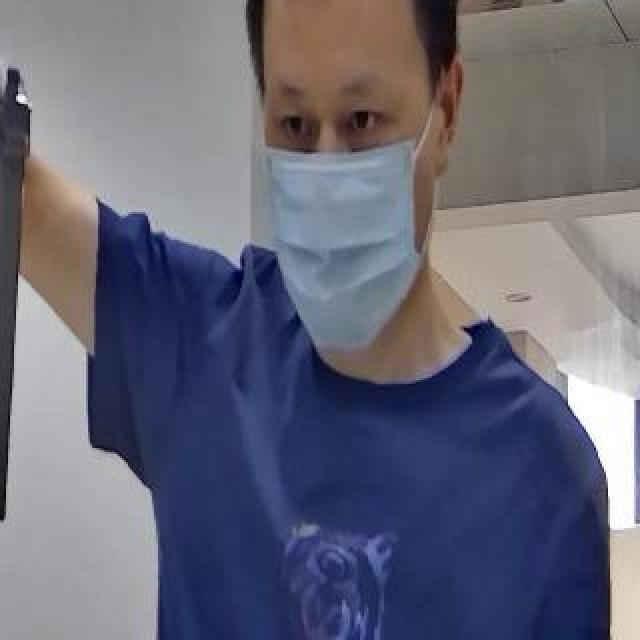Guns: (0, 40, 66, 554)
